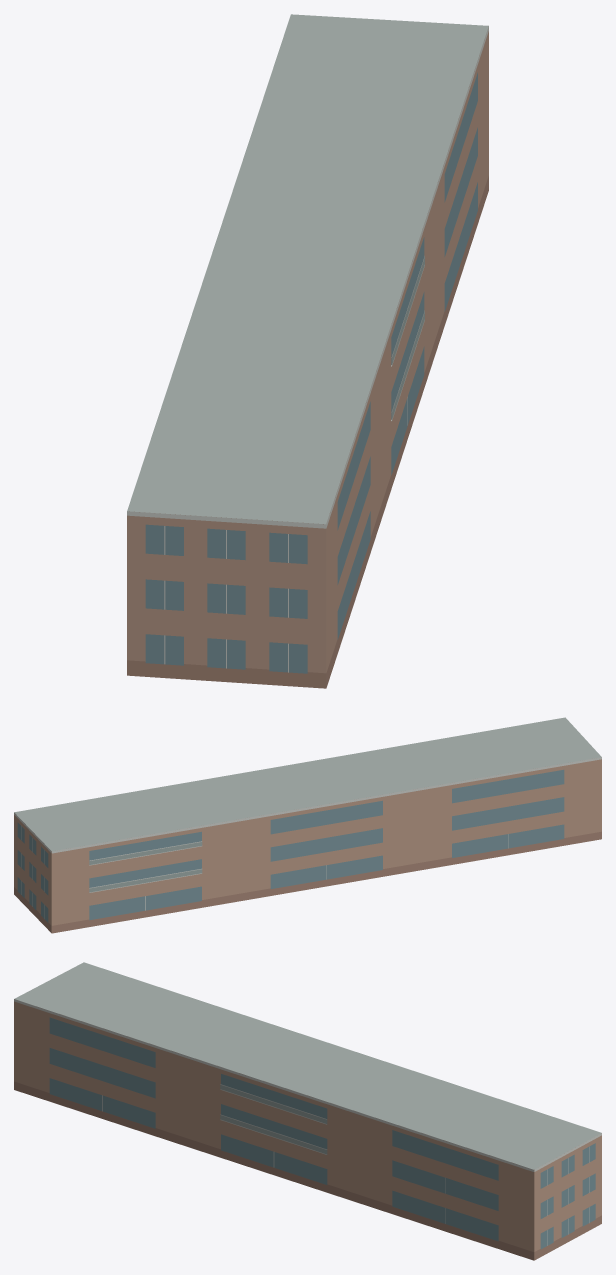
Rendered from survey-upis-33040561.glb.
3 renders of one model, top to bottom at view 1: azimuth 30°, elevation 25°; view 2: azimuth 150°, elevation 25°; view 3: azimuth 270°, elevation 25°, orthographic. The views are drawn at different scales.
Parts seen in each view (by area): view 1: survey-upis-33040561.tmp; view 2: survey-upis-33040561.tmp; view 3: survey-upis-33040561.tmp.
Part boxes in pixels (<box>): survey-upis-33040561.tmp: <box>127,14,488,688</box>; survey-upis-33040561.tmp: <box>14,717,601,933</box>; survey-upis-33040561.tmp: <box>14,962,601,1260</box>.
Size of the model in its own units: 44.82 by 9.15 by 53.64.
